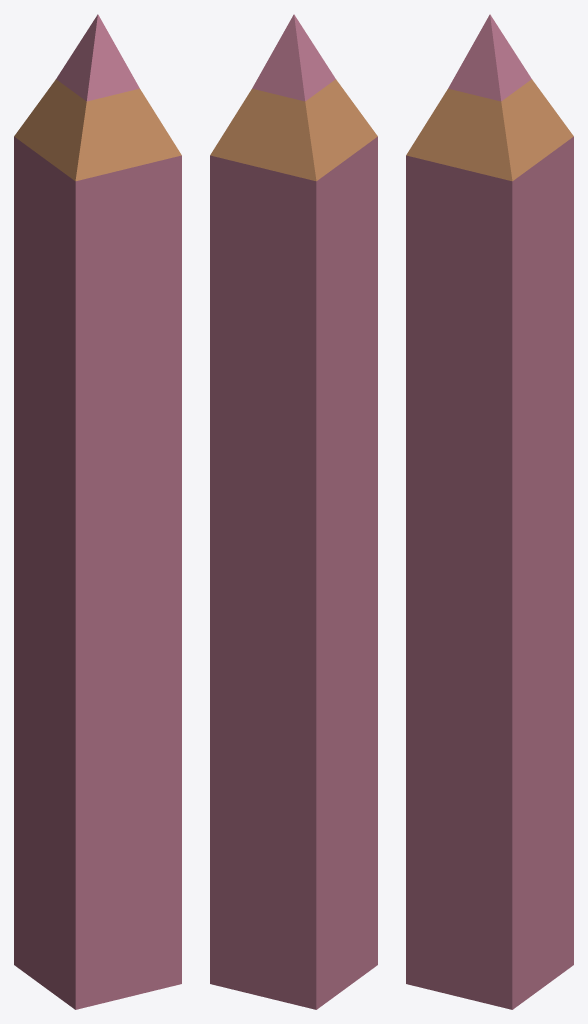
The model's file is pinkpencil.fbx.
3 renders of one model, left to right at view 1: azimuth 30°, elevation 25°; view 2: azimuth 150°, elevation 25°; view 3: azimuth 330°, elevation 25°, orthographic.
Visible parts, largest first — view 1: pCube1; view 2: pCube1; view 3: pCube1.
Boxes of the visible parts, left/top/right/bottom form: pCube1: left=14, top=14, right=181, bottom=1009; pCube1: left=210, top=14, right=377, bottom=1009; pCube1: left=406, top=14, right=573, bottom=1009.
Size of the model in its own units: 1 by 8.62 by 1.
